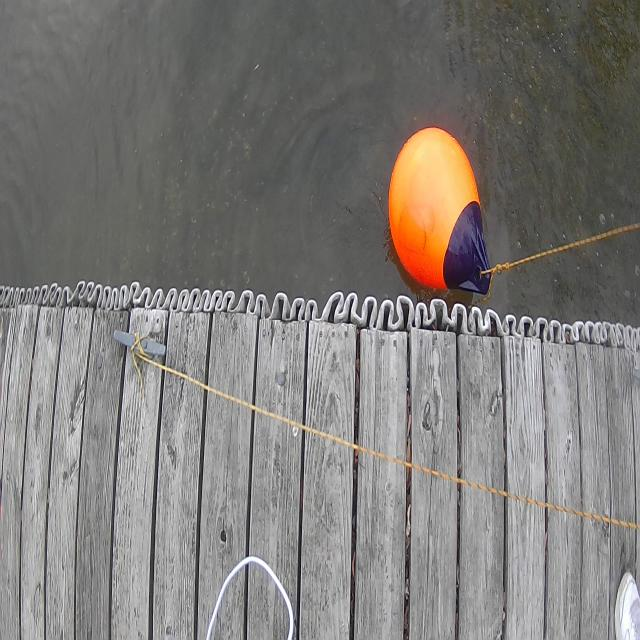Buoy: (379, 114, 498, 288)
